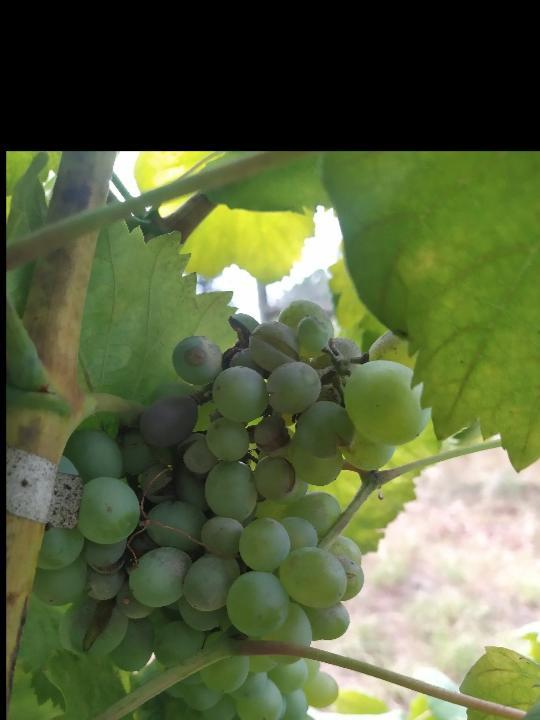grape: (37, 295, 435, 641)
